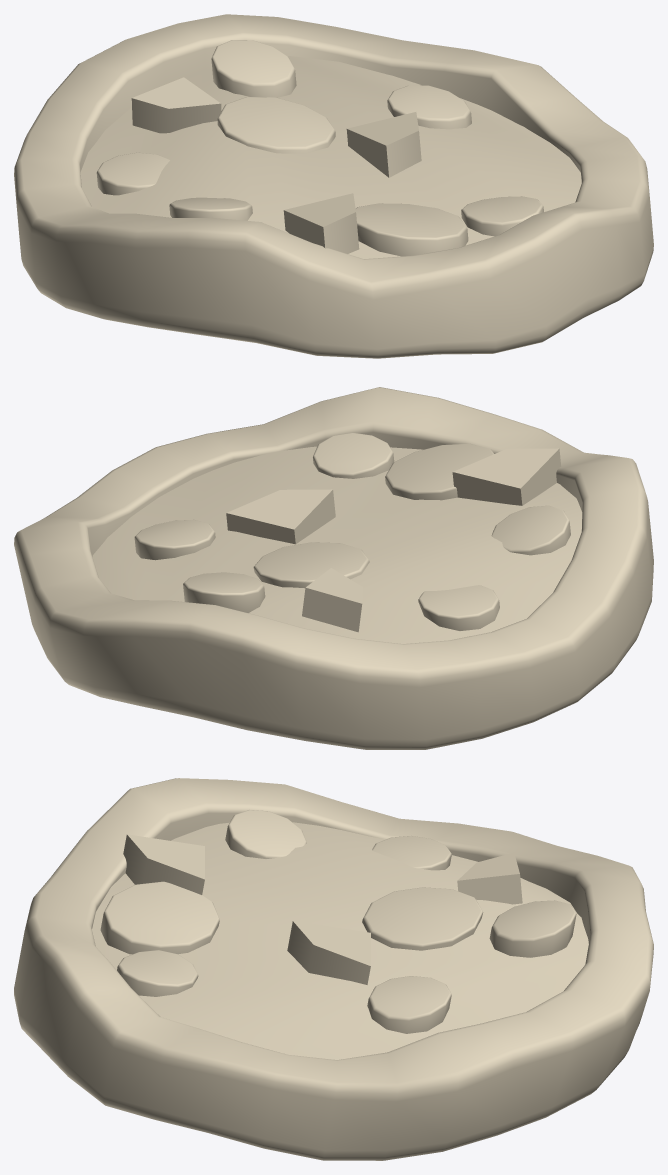
3 renders of one model, top to bottom at view 1: azimuth 30°, elevation 25°; view 2: azimuth 150°, elevation 25°; view 3: azimuth 270°, elevation 25°, orthographic. The views are drawn at different scales.
Parts seen in each view (by area): view 1: PiSa_01; view 2: PiSa_01; view 3: PiSa_01.
Part boxes in pixels (x1,y1,x2,y2): PiSa_01: (14, 14, 653, 358); PiSa_01: (14, 387, 653, 749); PiSa_01: (14, 778, 653, 1160).
Size of the model in its own units: 122 by 33.31 by 125.
